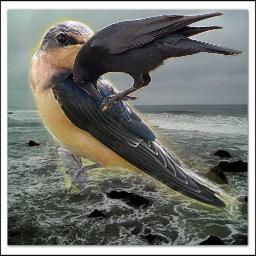Crow: (72, 12, 245, 113)
Swallow: (28, 9, 248, 219)
